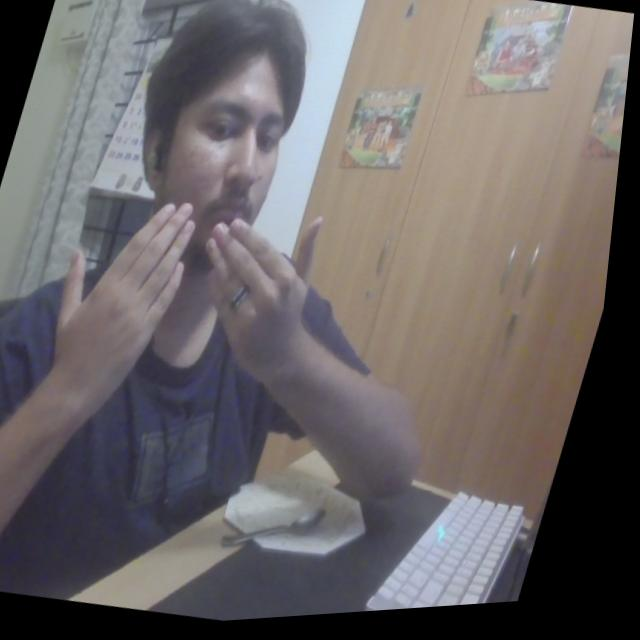thankyou: (23, 158, 352, 450)
